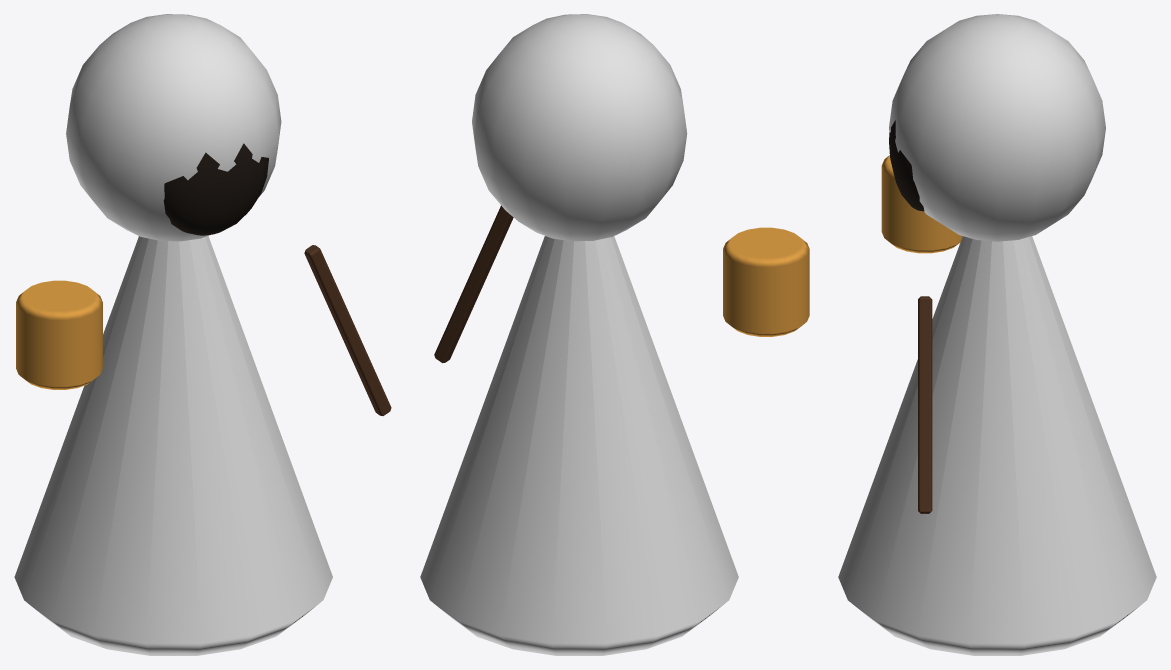
File: robed-figure.8b5cde95.glb
The picture shows the model from 3 angles, left to right: view 1: azimuth 30°, elevation 25°; view 2: azimuth 150°, elevation 25°; view 3: azimuth 270°, elevation 25°; orthographic projection.
Visible parts, largest first — view 1: accent, body; view 2: accent, body; view 3: accent, body.
Boxes of the visible parts, x1=… form: accent: x1=14, y1=14, x2=332, y2=655; body: x1=16, y1=143, x2=391, y2=415; accent: x1=420, y1=14, x2=738, y2=655; body: x1=434, y1=205, x2=809, y2=363; accent: x1=838, y1=14, x2=1156, y2=655; body: x1=881, y1=120, x2=962, y2=513.
Bounding box in the file's own units: 0.5852 × 0.88 × 0.44.
